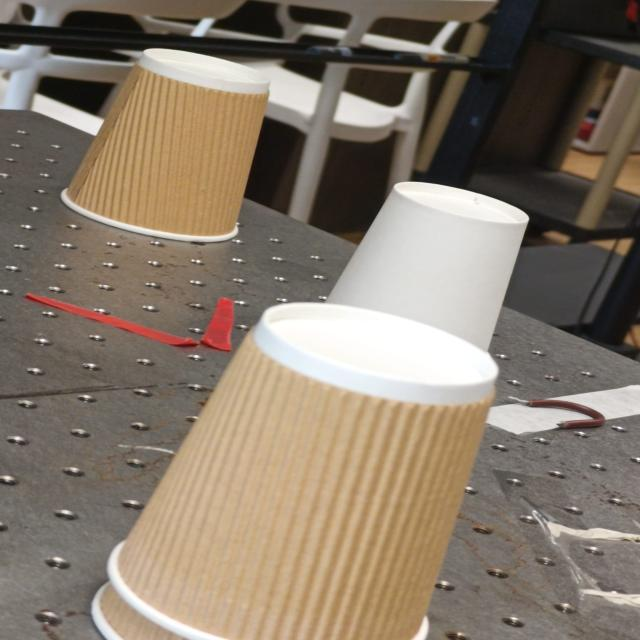Browncup: (107, 301, 502, 640), (61, 49, 268, 242), (91, 580, 186, 638)
Whitecup: (328, 182, 528, 348)
